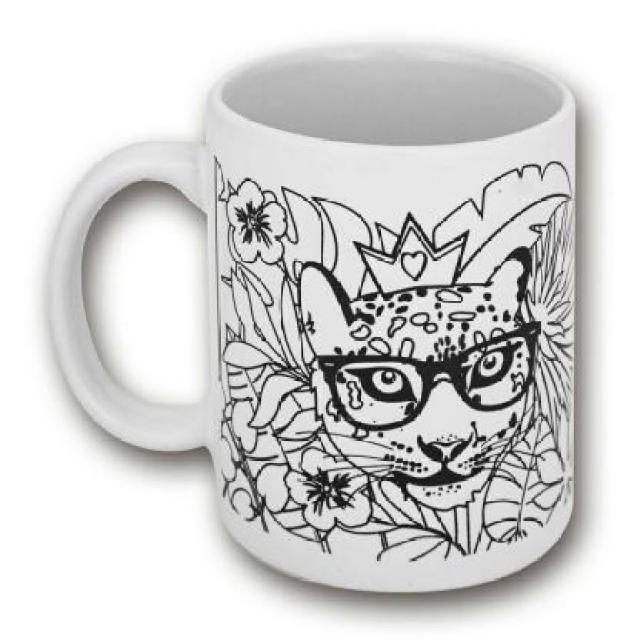cup: (42, 35, 588, 599)
